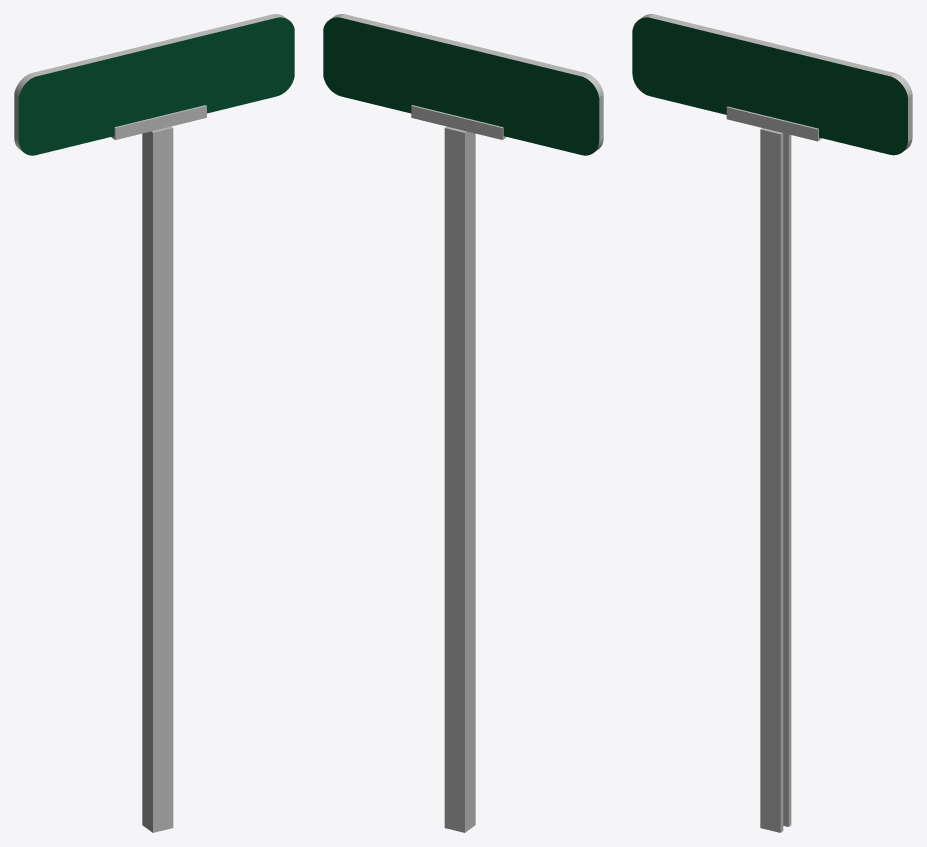
File: streetsign.obj
The picture shows the model from 3 angles, left to right: view 1: azimuth 30°, elevation 25°; view 2: azimuth 150°, elevation 25°; view 3: azimuth 330°, elevation 25°; orthographic projection.
Parts seen in each view (by area): view 1: Mesh1 Model; view 2: Mesh1 Model; view 3: Mesh1 Model.
Part boxes in pixels (x1,y1,x2,y2): Mesh1 Model: [14, 14, 294, 832]; Mesh1 Model: [323, 14, 603, 832]; Mesh1 Model: [632, 14, 912, 832].
Bounding box in the file's own units: 40.6 × 110 × 2.74.
